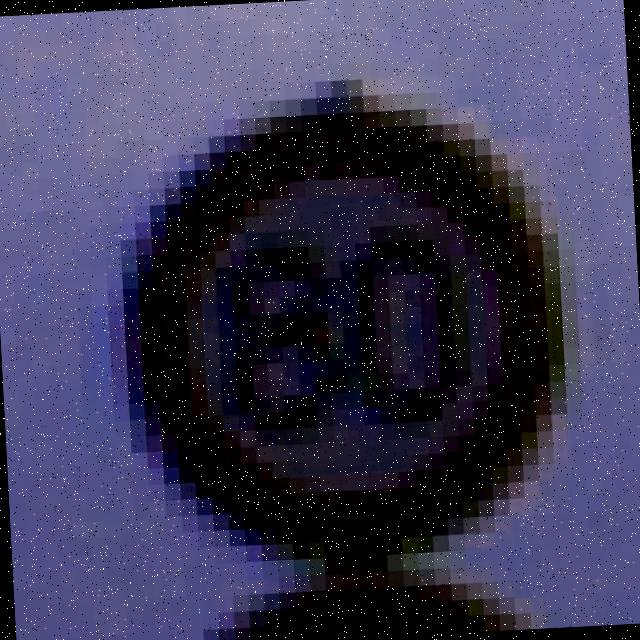Ograniczenie predkosci do 80: (133, 109, 562, 562)
